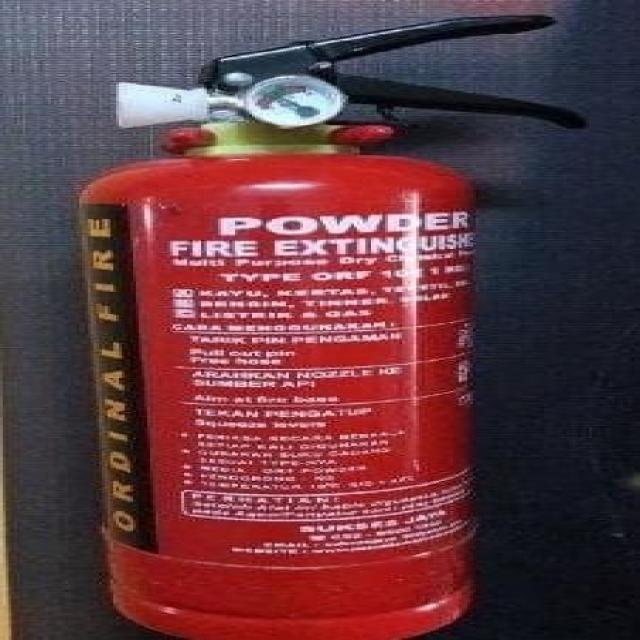fire_extinguisher: (65, 10, 600, 639)
